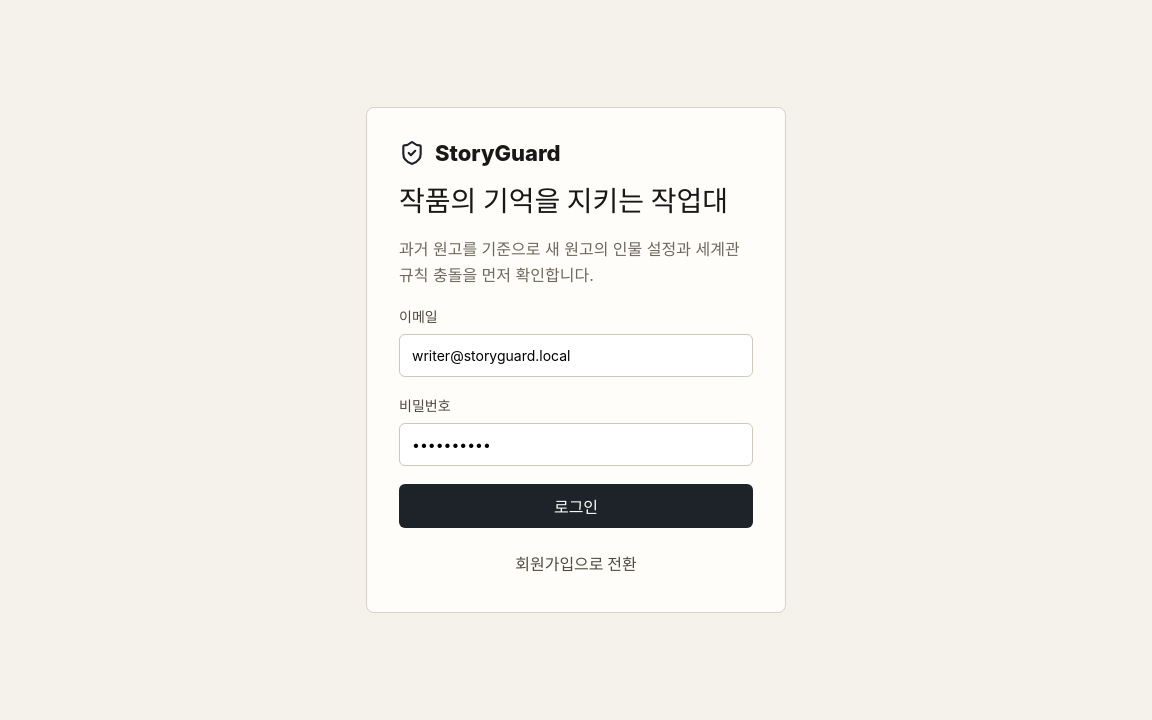
Scenario: StoryGuard app › creates projects only after filling and submitting the project form
Step 1. Click the button "로그인" → (576, 506), box [399,484,753,528]
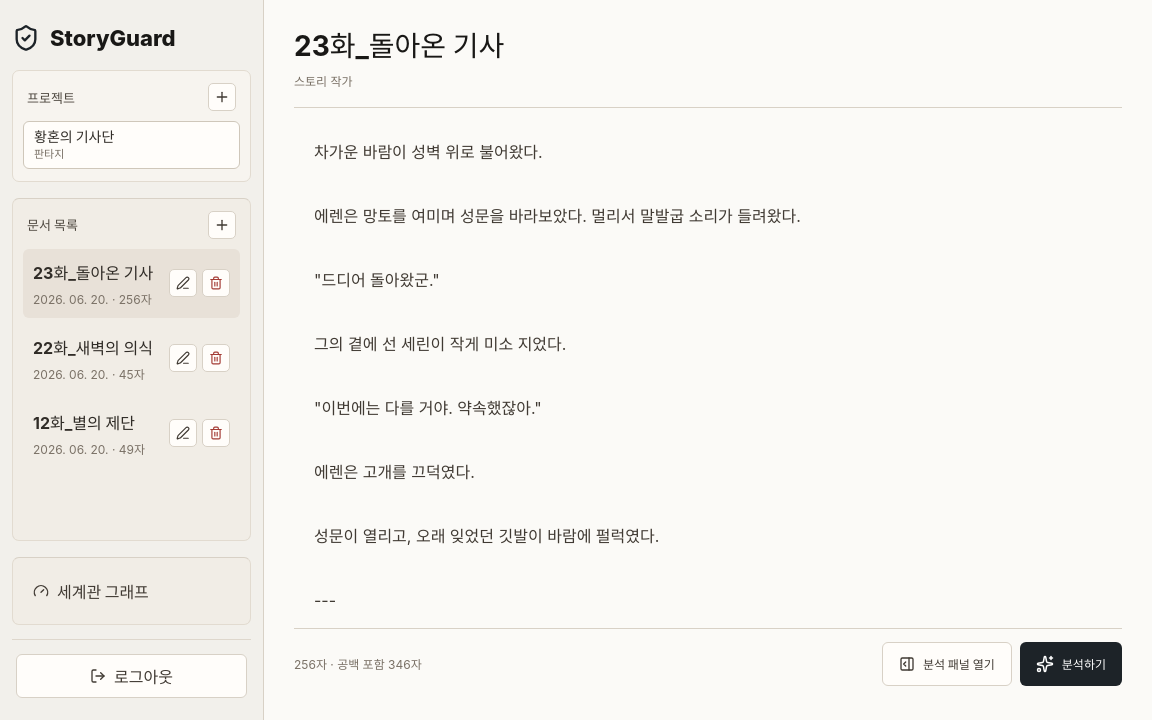
Expected: the heading "23화_돌아온 기사" is shown, [294,24,504,64]
Step 2. Click the button named "프로젝트 추가" → (222, 97), box [208,83,236,111]
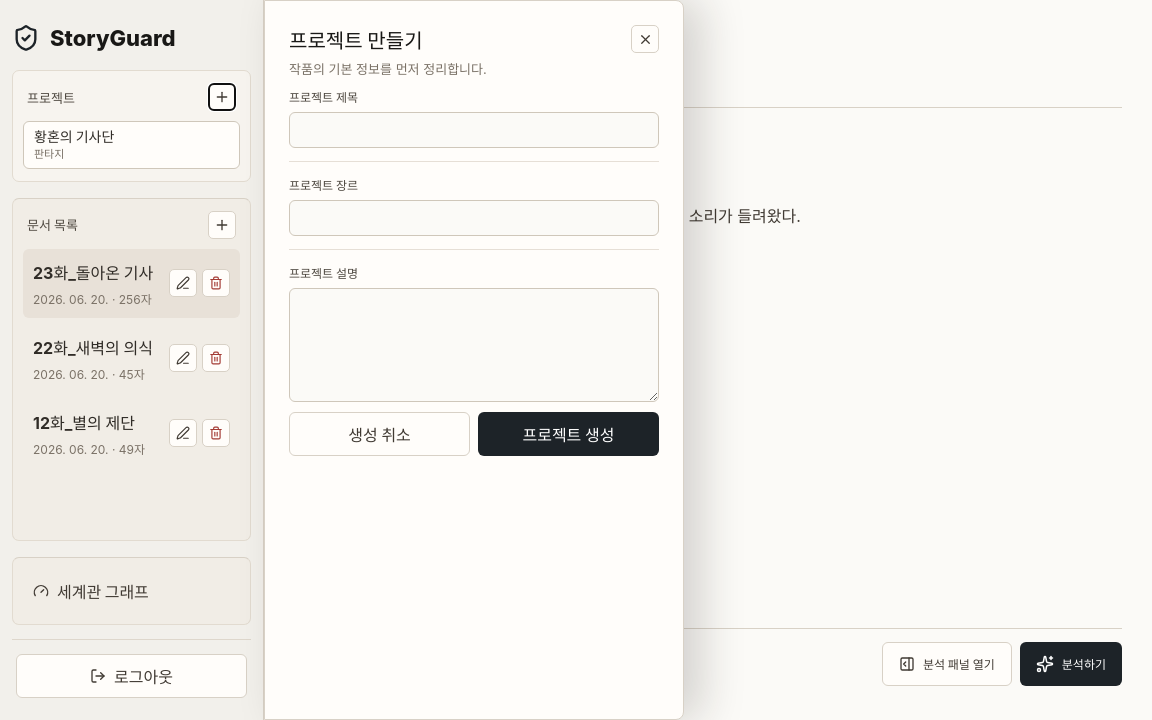
Expected: the dialog "프로젝트 만들기" is shown, [264,0,684,719]
Expected: the field labelled "프로젝트 제목" is shown
Expected: the field labelled "프로젝트 장르" is shown, [289,200,659,236]
Step 3. Type "은하 기록자" into the field labelled "프로젝트 제목" → (474, 130), box [289,112,659,148]
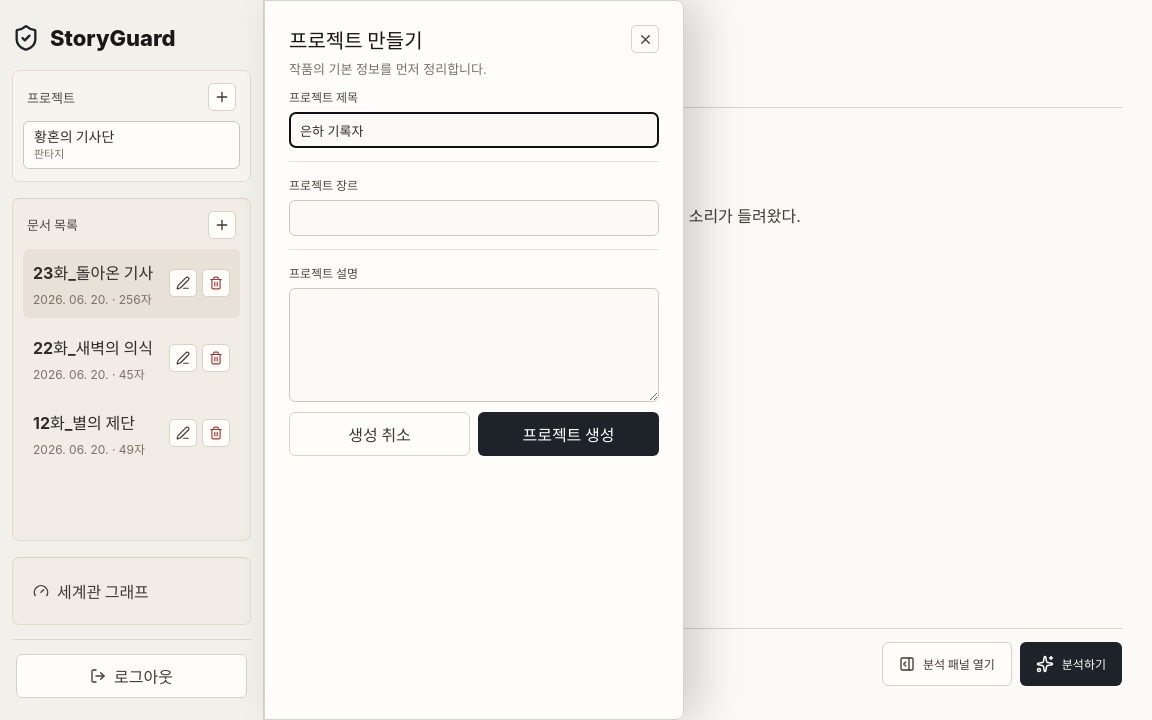
Step 4. Type "스페이스 오페라" into the field labelled "프로젝트 장르" → (474, 218), box [289,200,659,236]
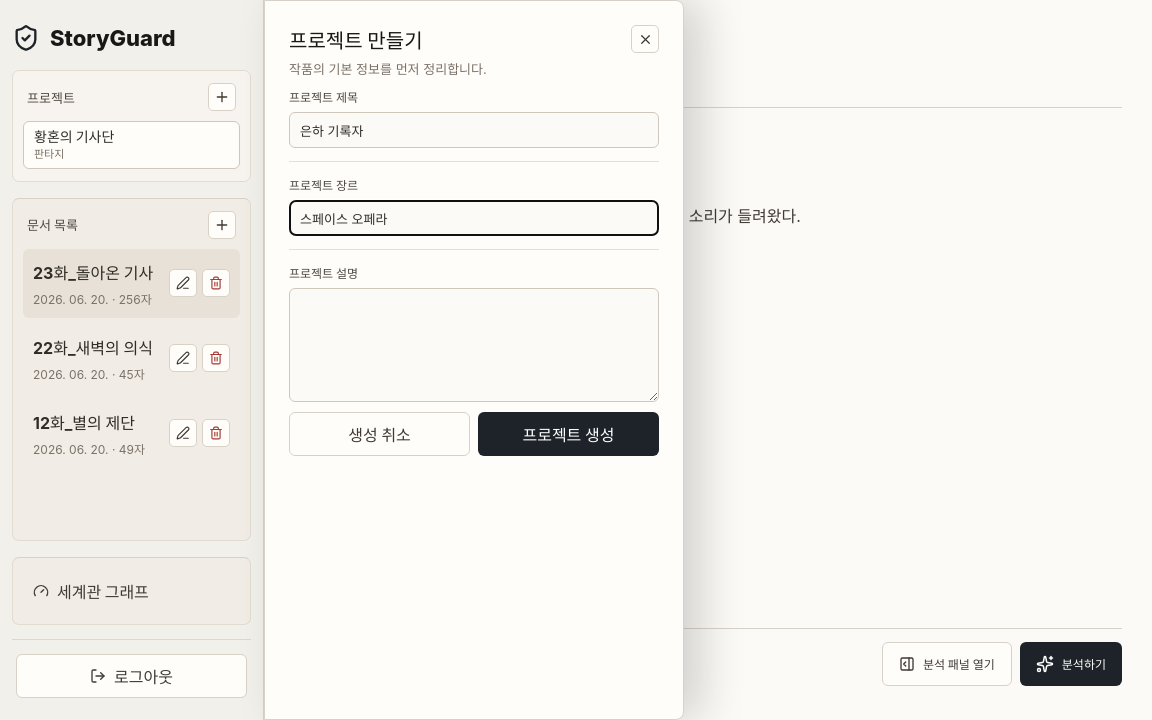
Step 5. Type "제국 변경의 기억을 추적하는 장편" into the text box labelled "프로젝트 설명" → (474, 345), box [289,288,659,402]
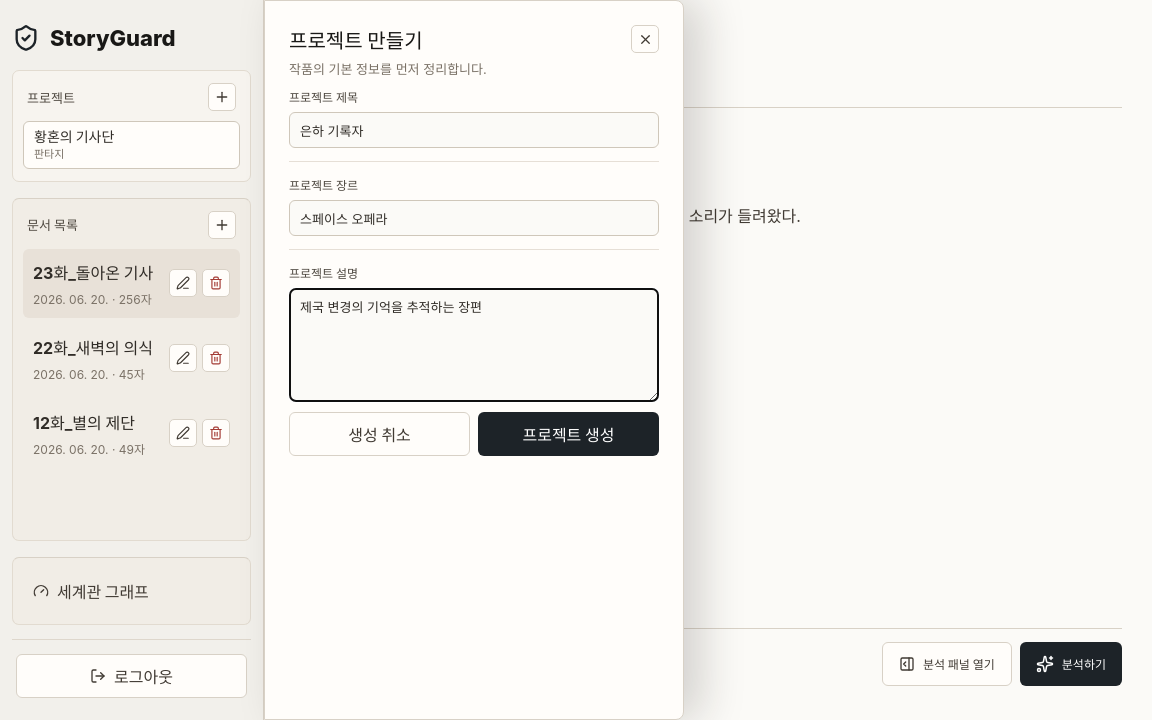
Step 6. Click the button "프로젝트 생성" → (568, 434), box [478,412,659,456]
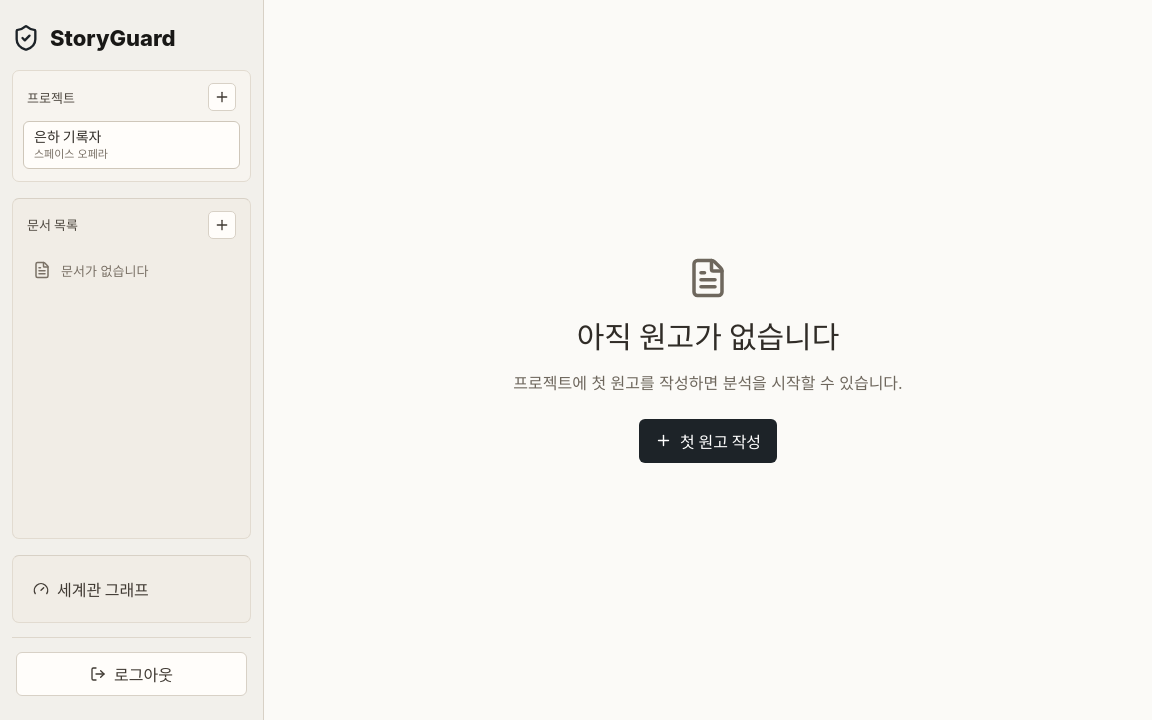
Expected: the text "문서가 없습니다" is shown, [61,261,148,280]
Expected: the heading "아직 원고가 없습니다" is shown, [577,313,839,357]
Expected: the label labelled "프로젝트 제목" is gone
